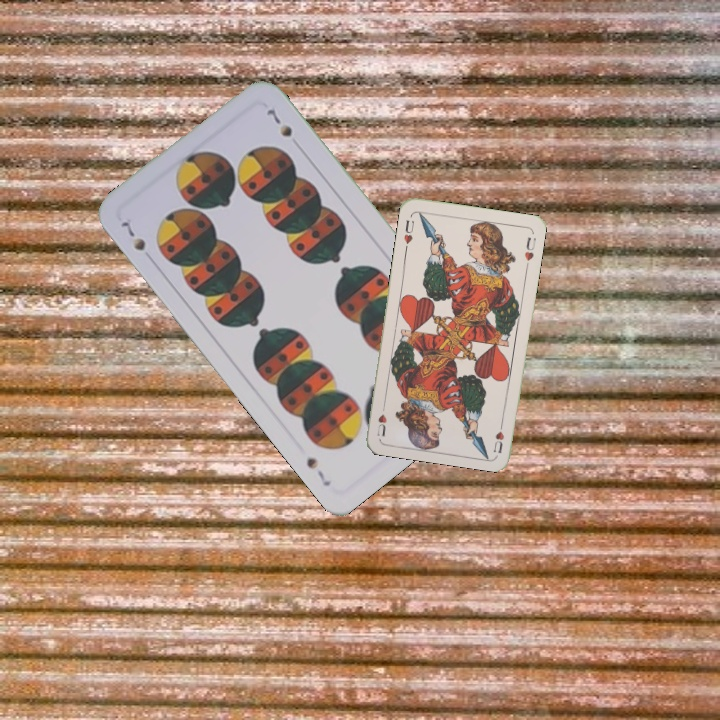HU: (489, 416, 507, 456), (400, 216, 417, 246)
S7: (117, 217, 149, 254)
